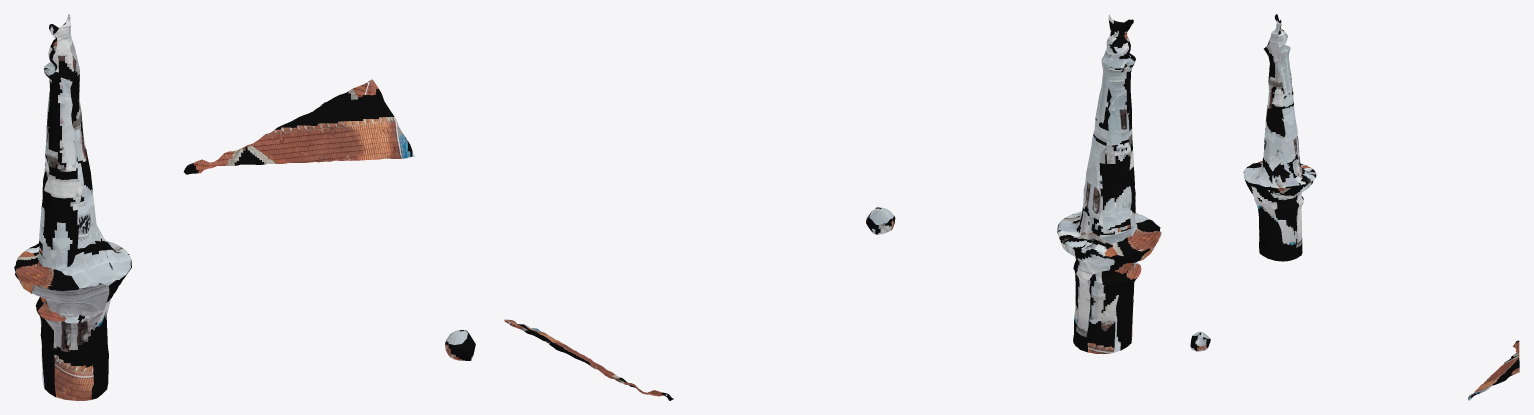
The picture shows the model from 3 angles, left to right: view 1: azimuth 30°, elevation 25°; view 2: azimuth 150°, elevation 25°; view 3: azimuth 270°, elevation 25°; orthographic projection. The views are drawn at different scales.
Visible parts, largest first — view 1: node_61; view 2: node_61; view 3: node_61.
Part boxes in pixels (<box>): node_61: <box>14,14,475,400</box>; node_61: <box>504,14,1161,400</box>; node_61: <box>1190,14,1519,400</box>.
Bounding box in the file's own units: 6.47 × 4.25 × 5.45.
Materials: 1 (1 with a texture image).
